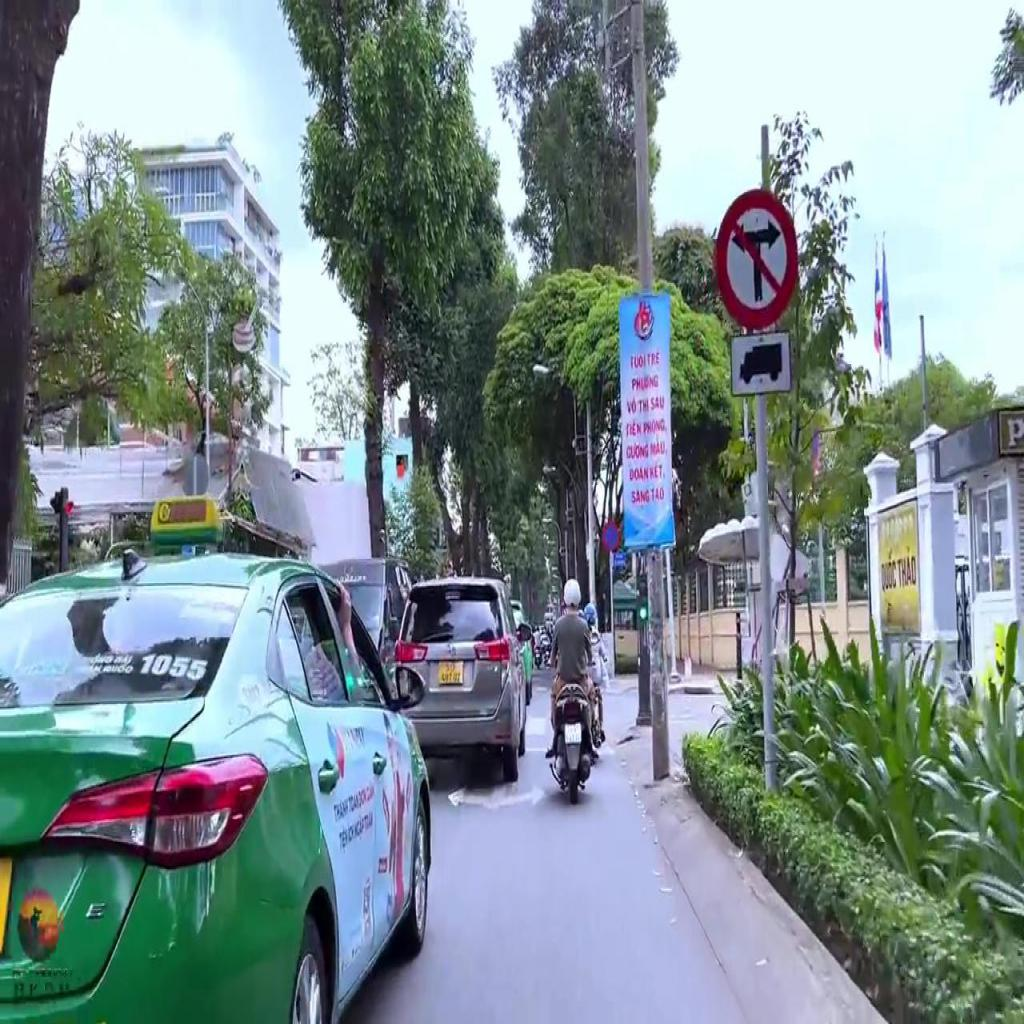cam_dung_xe_va_do_xe: (602, 520, 620, 550)
cam_re_trai_va_phai: (717, 186, 798, 328)
khac: (731, 334, 791, 394)
